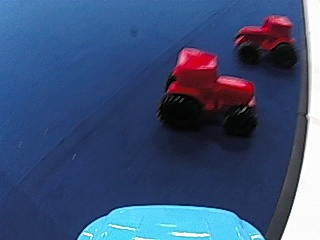tractor: (157, 43, 261, 138), (232, 14, 300, 67)
